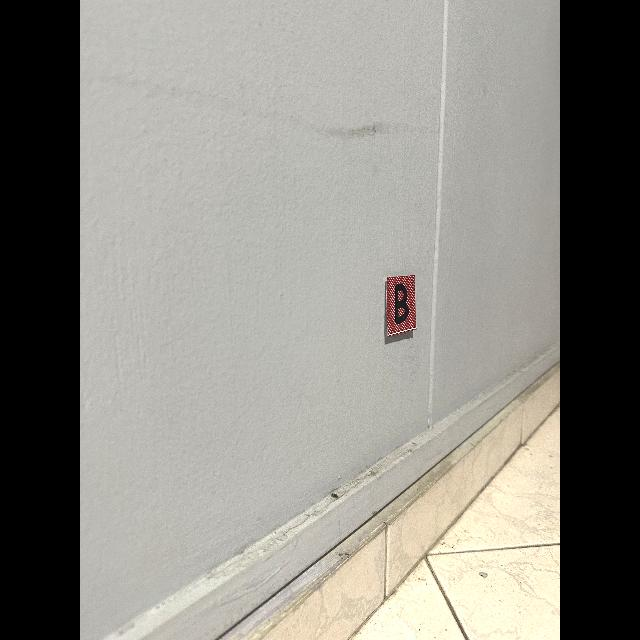B: (395, 284, 409, 324)
